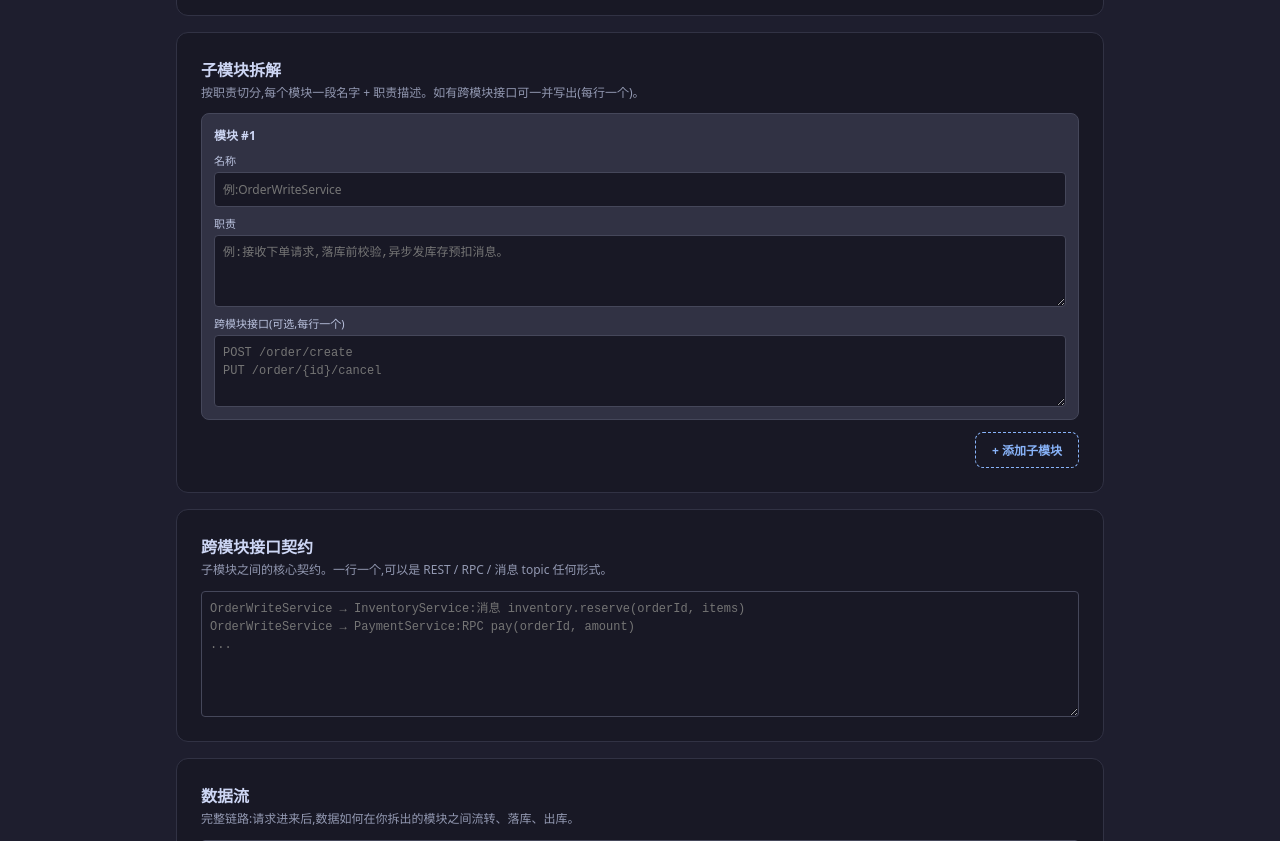
Scenario: <ModuleDPage /> › dynamic submodules › adds a new submodule card on "+ 添加子模块"
(page scrolled)
Click the button with test id "md-add-submodule" at (1027, 450), box [975,432,1079,468]
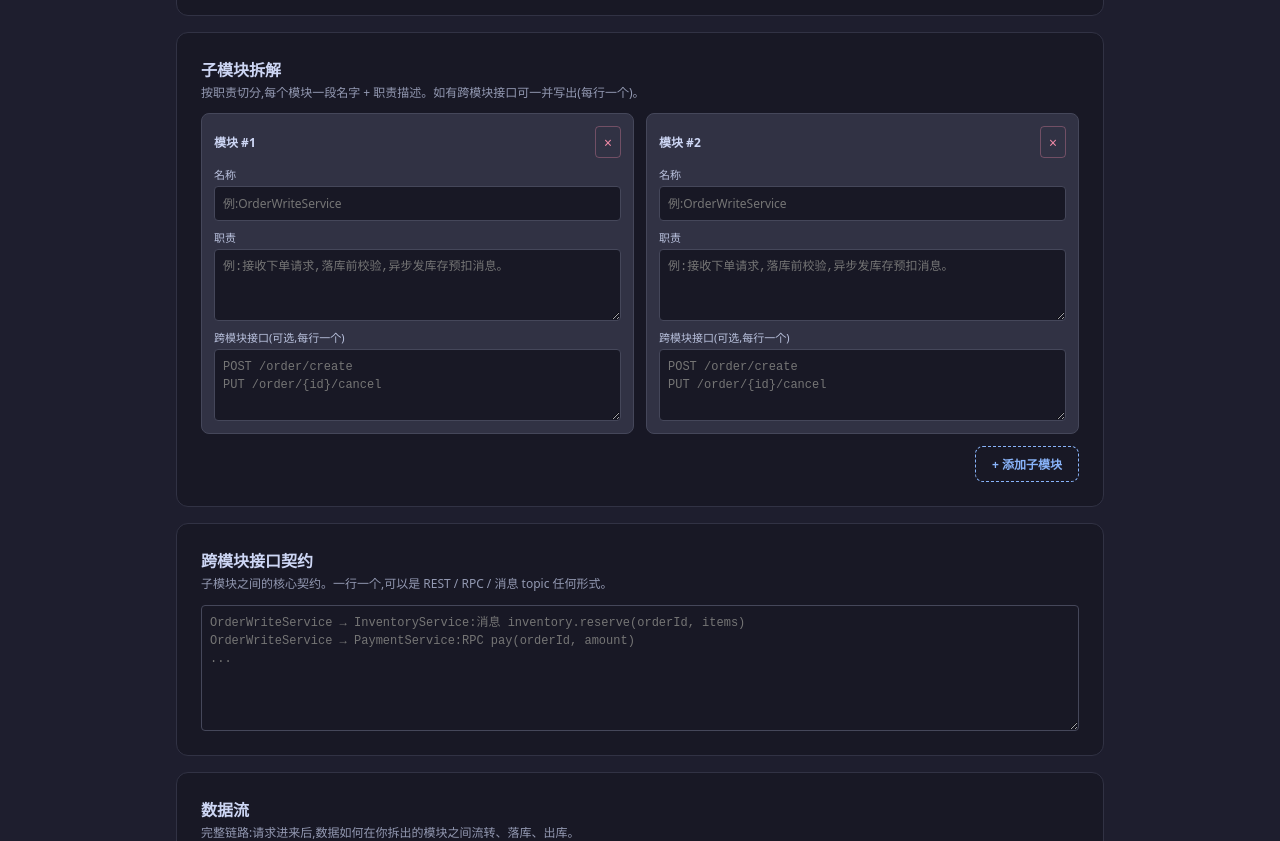
Expected: the element with test id "md-submodule-card-1" is shown, [646,114,1079,434]
